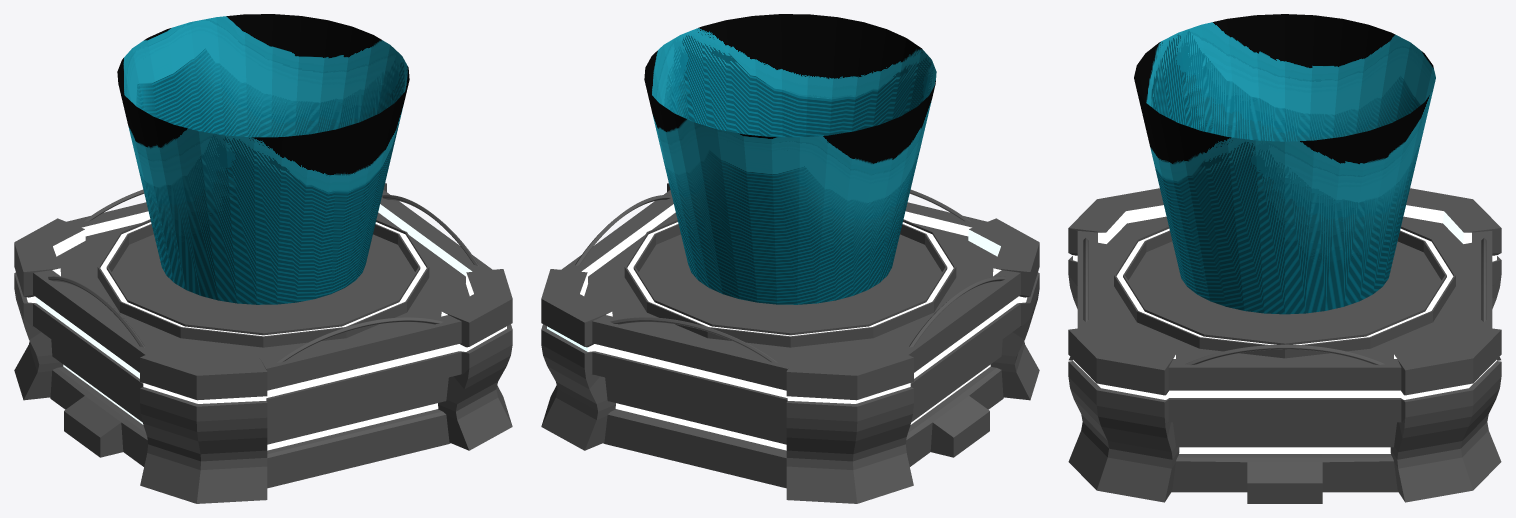
Rendered from Stol.fbx.
The picture shows the model from 3 angles, left to right: view 1: azimuth 30°, elevation 25°; view 2: azimuth 150°, elevation 25°; view 3: azimuth 270°, elevation 25°; orthographic projection. The views are drawn at different scales.
Visible parts, largest first — view 1: NurbsPath.001; view 2: NurbsPath.001; view 3: NurbsPath.001.
Part boxes in pixels (x1,y1,x2,y2): NurbsPath.001: (14, 14, 512, 503); NurbsPath.001: (541, 14, 1039, 503); NurbsPath.001: (1068, 14, 1501, 503).
Size of the model in its own units: 196 by 168 by 196.
3 materials, 1 textured.
